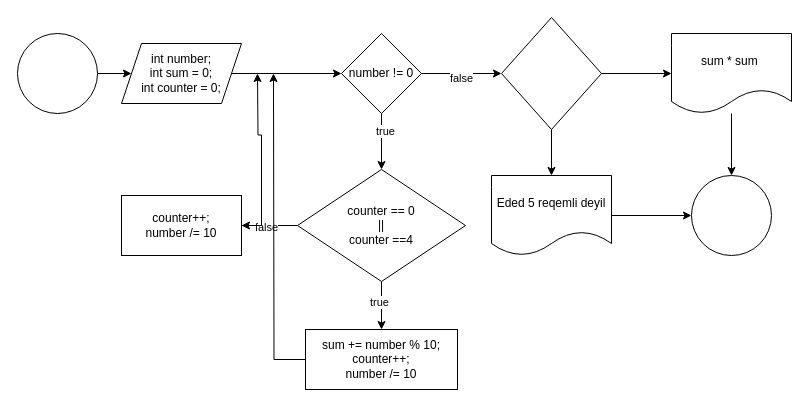
This 809x407 diagram has some shape labels left out. The box of each missing label's shape, as (x1, y1, x2, y2) in pixels:
counter > 5 || counter < 5: (500, 16, 602, 130)
end: (690, 174, 772, 256)
start: (16, 32, 98, 114)
